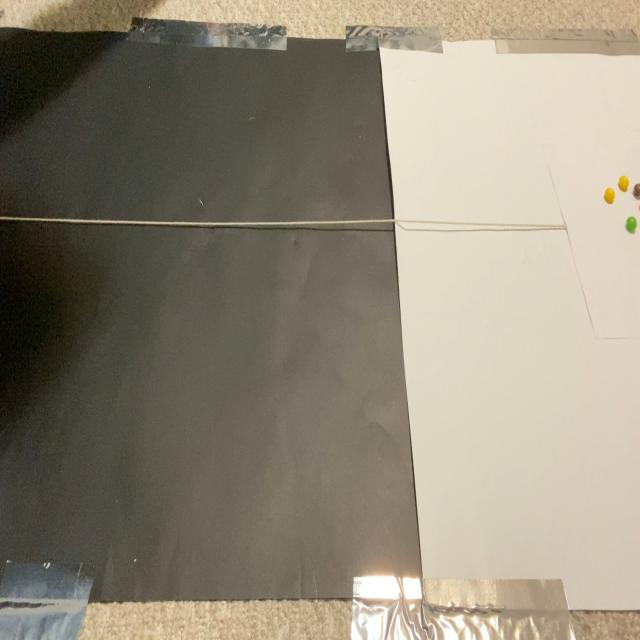smartie: (605, 186, 616, 203), (627, 215, 638, 232), (619, 175, 630, 191), (634, 182, 640, 198)
